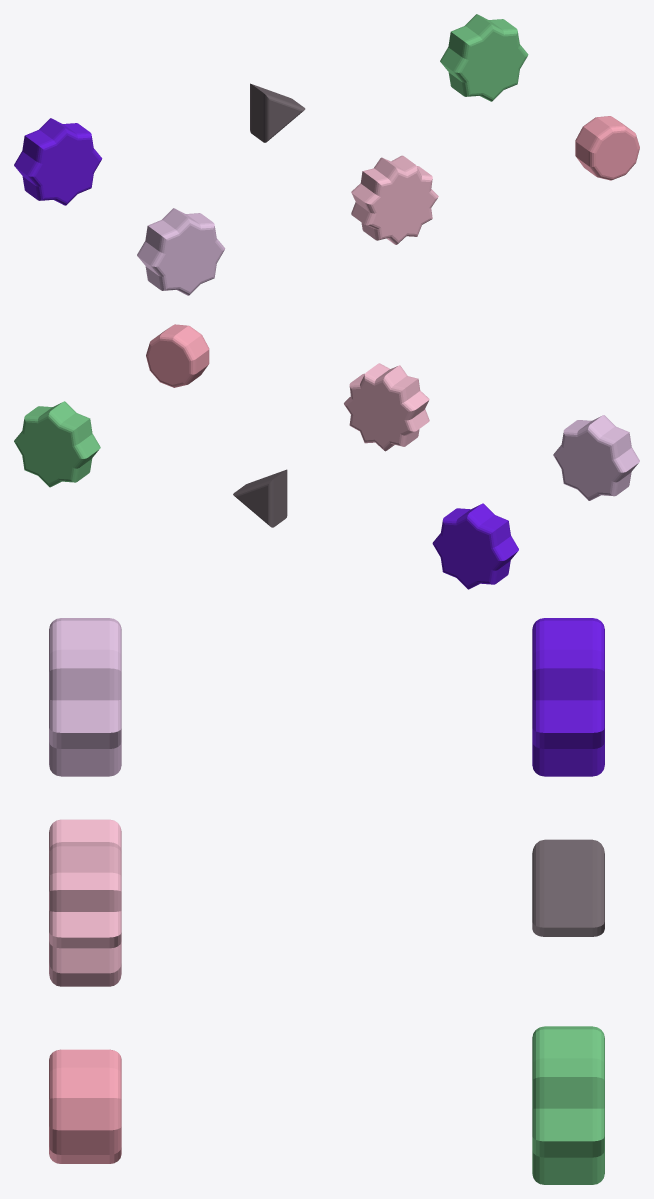
Rendered from Standard Normal Mapped_Linear_2023-07-23-20-47-45.gltf.
3 views of the same model, one above another, from view 1: azimuth 30°, elevation 25°; view 2: azimuth 150°, elevation 25°; view 3: azimuth 270°, elevation 25° (orthographic). The views are drawn at different scales.
Size of the model in its own units: 470 by 69.86 by 230.
